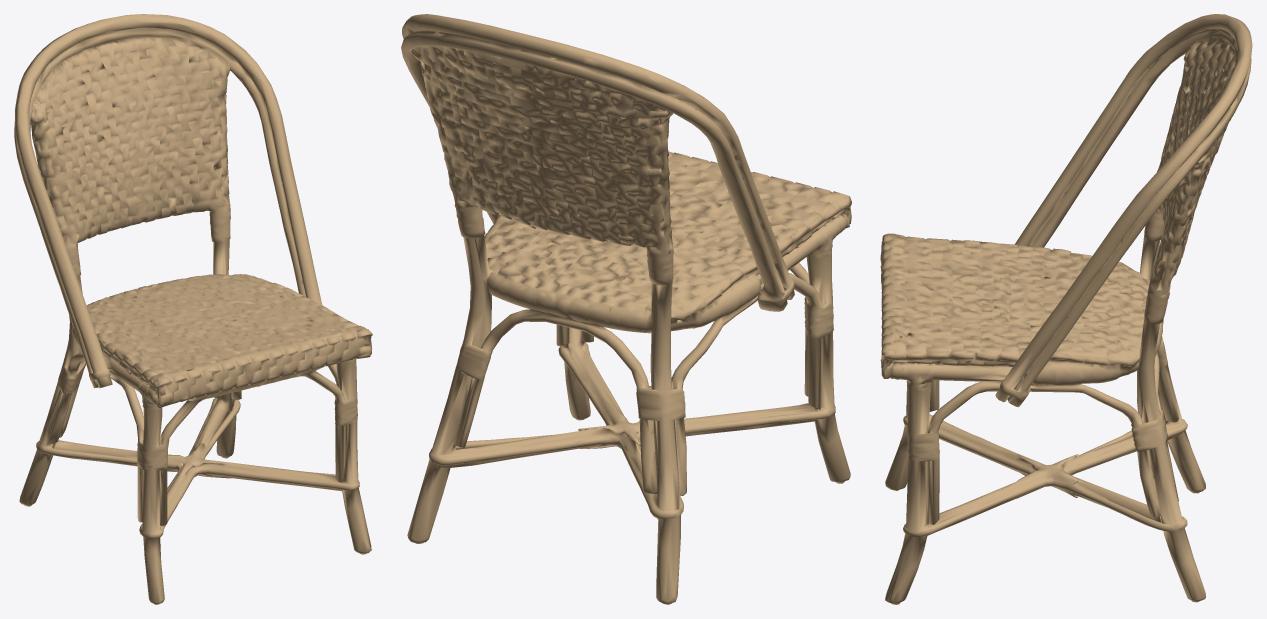
The model's file is gen-bistro-chair-rattan-1.glb.
3 renders of one model, left to right at view 1: azimuth 30°, elevation 25°; view 2: azimuth 150°, elevation 25°; view 3: azimuth 270°, elevation 25°, orthographic. The views are drawn at different scales.
Visible parts, largest first — view 1: gen-bistro-chair-rattan-1_part1; view 2: gen-bistro-chair-rattan-1_part1; view 3: gen-bistro-chair-rattan-1_part1.
Boxes of the visible parts, <box> form: gen-bistro-chair-rattan-1_part1: <box>14,14,372,604</box>; gen-bistro-chair-rattan-1_part1: <box>401,14,851,604</box>; gen-bistro-chair-rattan-1_part1: <box>880,14,1252,604</box>.
Bounding box in the file's own units: 524 × 880 × 588.
